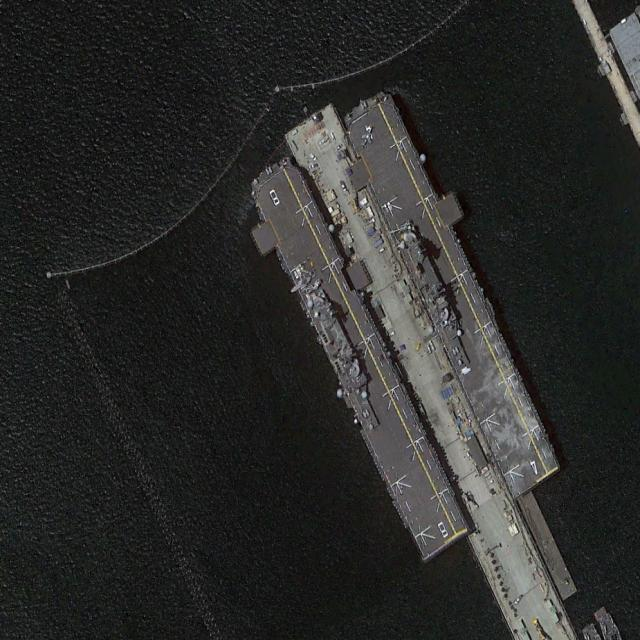Landing: (326, 75, 575, 509), (232, 142, 482, 573)
